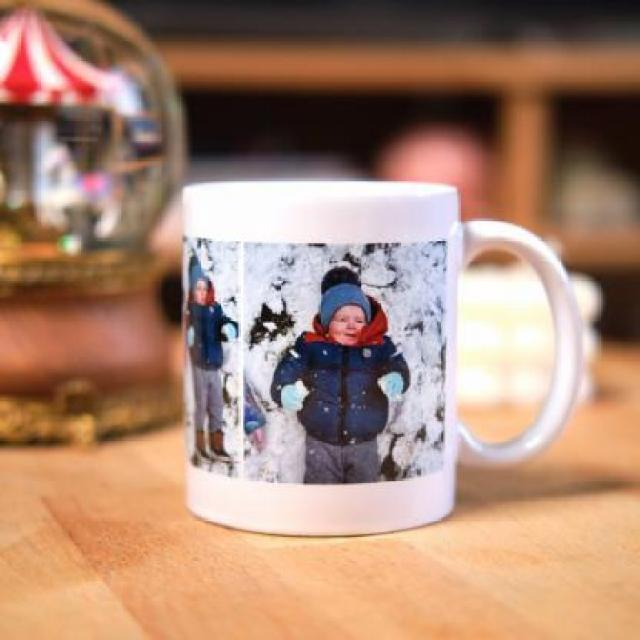taza: (181, 180, 584, 541)
